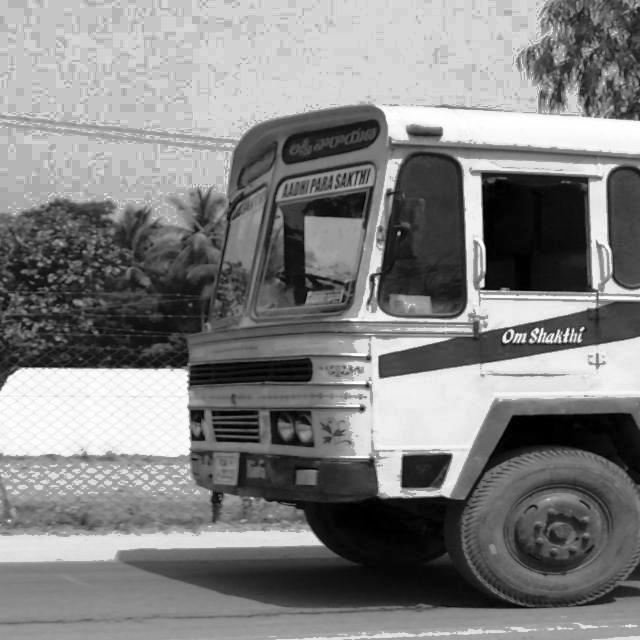HCV: (207, 103, 639, 640)
